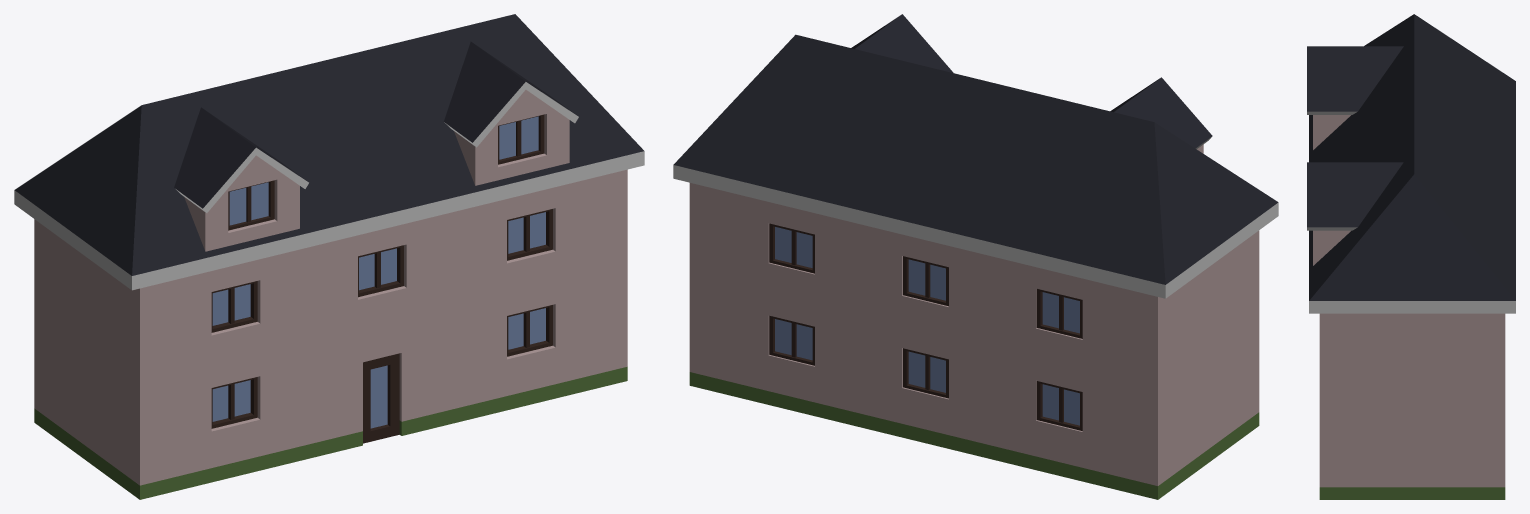
Rendered from FamilyHouse_10.fbx.
3 renders of one model, left to right at view 1: azimuth 30°, elevation 25°; view 2: azimuth 150°, elevation 25°; view 3: azimuth 270°, elevation 25°, orthographic. The views are drawn at different scales.
Parts seen in each view (by area): view 1: FamilyHouse_10; view 2: FamilyHouse_10; view 3: FamilyHouse_10.
Part boxes in pixels (x1,y1,x2,y2): FamilyHouse_10: (14, 14, 644, 499); FamilyHouse_10: (673, 14, 1278, 499); FamilyHouse_10: (1307, 14, 1515, 499).
Bounding box in the file's own units: 15.09 × 9.62 × 6.05.
